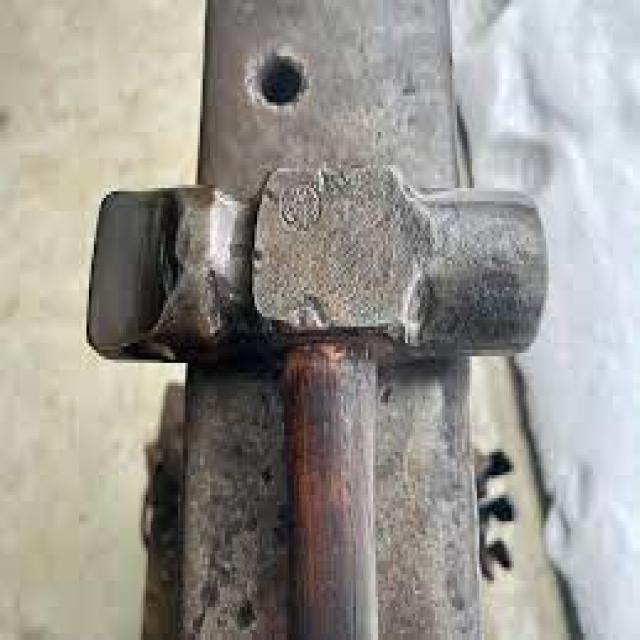hammer: (80, 165, 562, 640)
